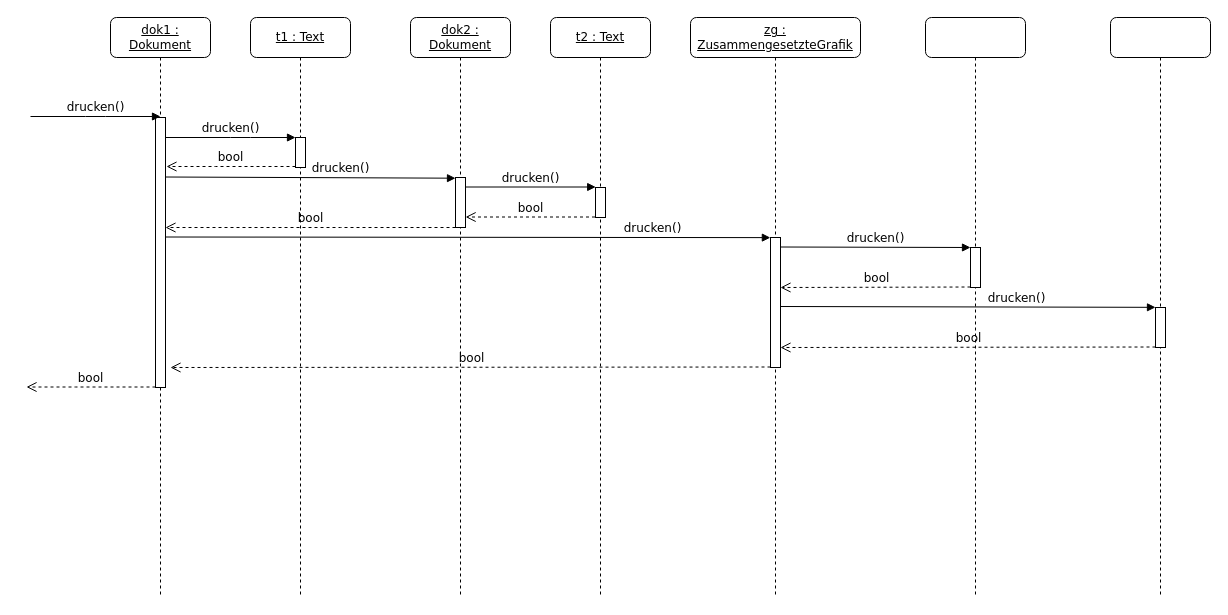
Some shapes in this 1228 by 615 pixel diagram are drawn without their labels. Each missing label, with the centre of its shape:
eg1 : EinfacheGrafik: point (975, 307)
eg2 : EinfacheGrafik: point (1160, 307)
